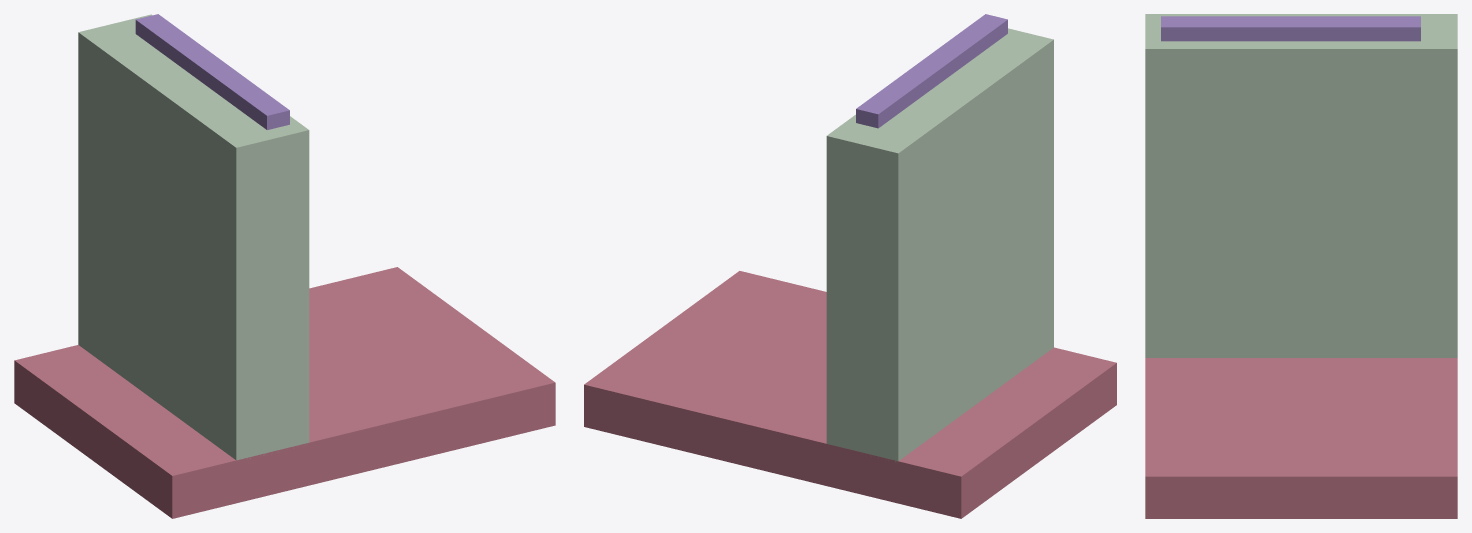
3 views of the same model, side by side, from view 1: azimuth 30°, elevation 25°; view 2: azimuth 150°, elevation 25°; view 3: azimuth 270°, elevation 25° (orthographic).
Visible parts, largest first — view 1: world; view 2: world; view 3: world.
Part boxes in pixels (x1=…): world: x1=14, y1=14, x2=555, y2=518; world: x1=584, y1=14, x2=1116, y2=518; world: x1=1145, y1=14, x2=1457, y2=518.
Size of the model in its own units: 8.4 by 7.8 by 6.
